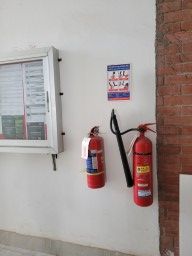fire_extinguisher: (92, 47, 155, 79), (94, 115, 142, 143)
